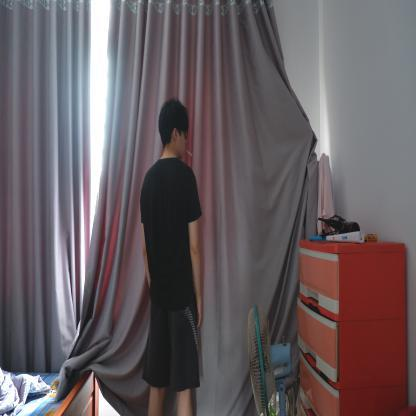cigarette: (184, 148, 192, 157)
person: (139, 98, 204, 415)
